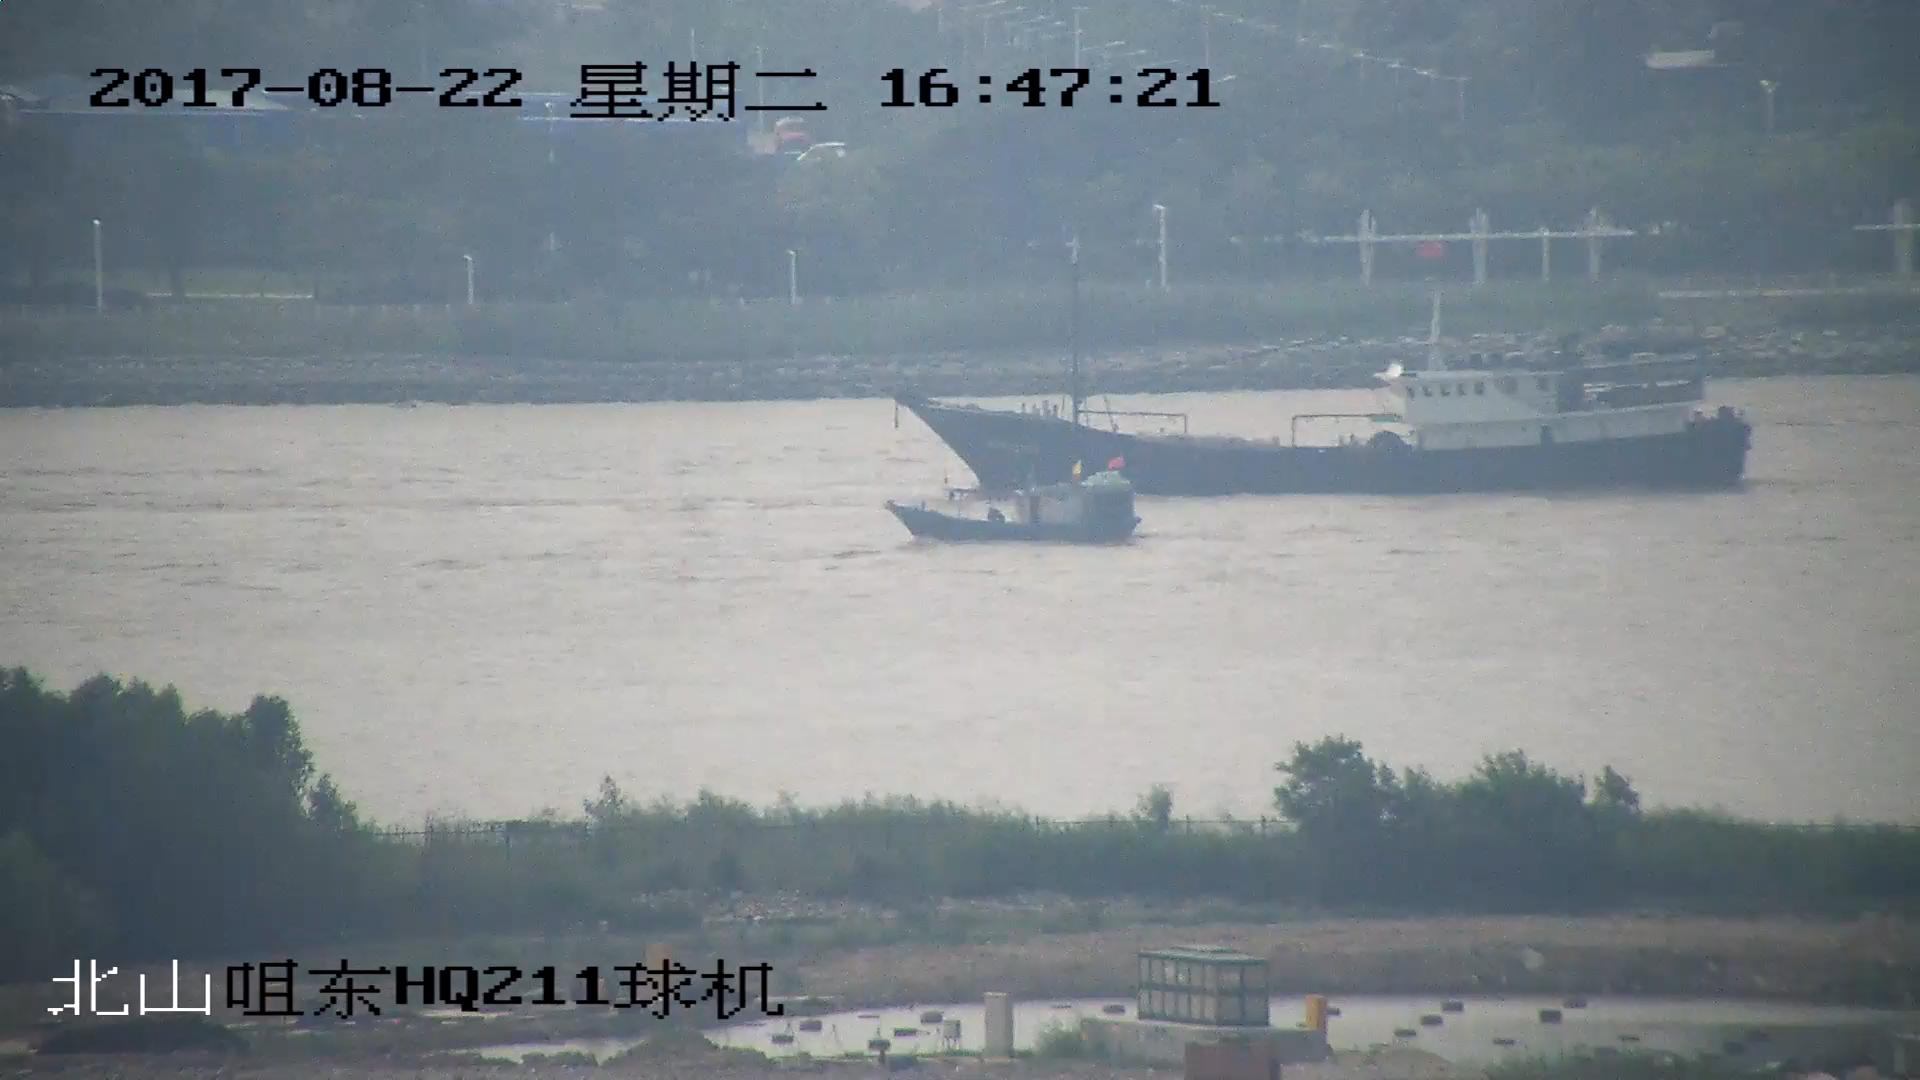fishing boat: (897, 231, 1748, 497), (887, 452, 1140, 548)
